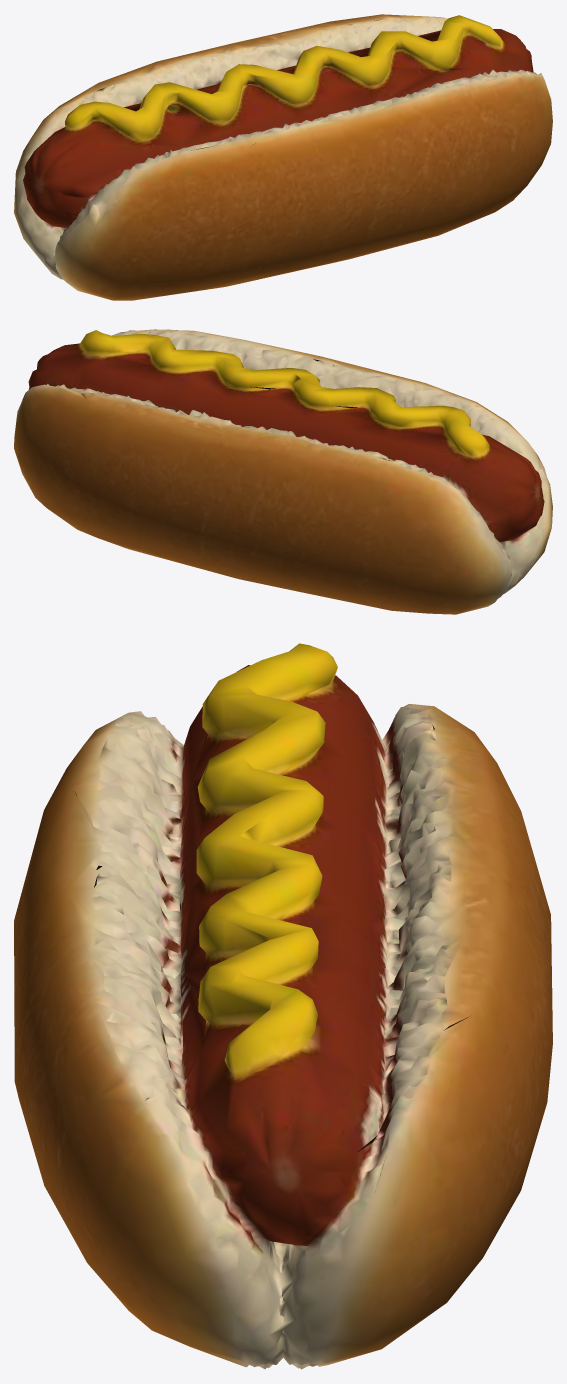
File: food-hotdog-phone.glb
The picture shows the model from 3 angles, top to bottom: view 1: azimuth 30°, elevation 25°; view 2: azimuth 150°, elevation 25°; view 3: azimuth 270°, elevation 25°; orthographic projection. The views are drawn at different scales.
Visible parts, largest first — view 1: Model; view 2: Model; view 3: Model.
Part boxes in pixels (x1,y1,x2,y2): Model: (14, 14, 552, 300); Model: (14, 329, 552, 614); Model: (14, 643, 552, 1369).
Bounding box in the file's own units: 1.9 × 0.6566 × 0.9044.
Materials: 1 (1 with a texture image).
